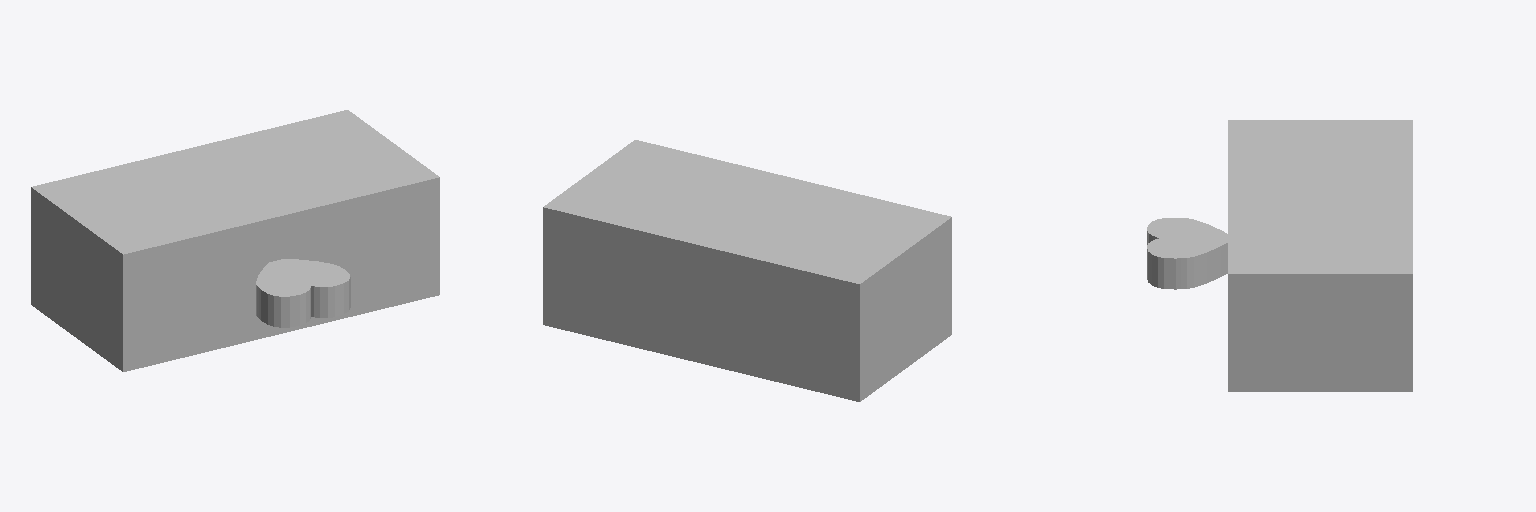
Rendered from tinker.obj.
3 views of the same model, side by side, from view 1: azimuth 30°, elevation 25°; view 2: azimuth 150°, elevation 25°; view 3: azimuth 270°, elevation 25° (orthographic).
Visible parts, largest first — view 1: obj_0; view 2: obj_0; view 3: obj_0.
Boxes of the visible parts, box(x1,y1,x2,y2) form: obj_0: box(31, 110, 439, 371); obj_0: box(543, 140, 951, 401); obj_0: box(1147, 120, 1412, 391).
Bounding box in the file's own units: 107 × 38 × 77.87.